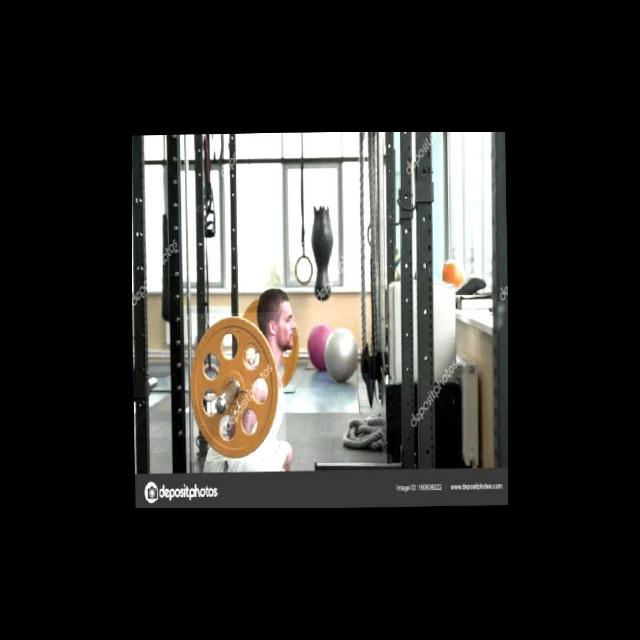barbell: (186, 312, 286, 462)
